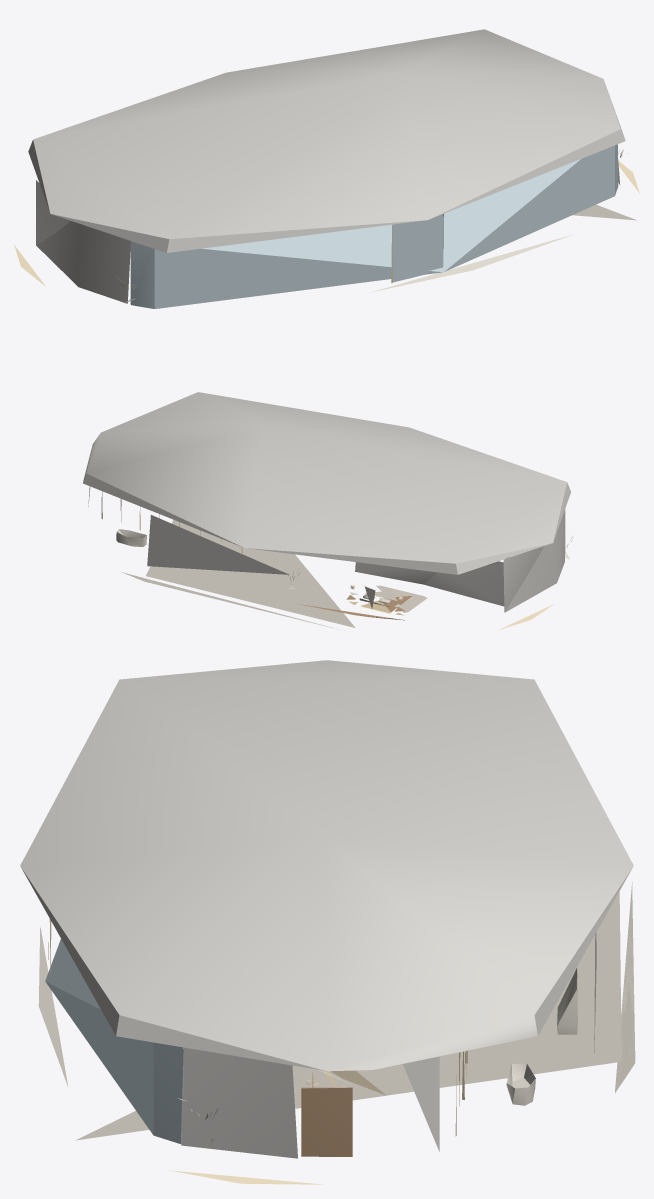
File: Nocturne_LOD0.dae
3 renders of one model, top to bottom at view 1: azimuth 30°, elevation 25°; view 2: azimuth 150°, elevation 25°; view 3: azimuth 270°, elevation 25°, orthographic. The views are drawn at different scales.
Visible parts, largest first — view 1: Nocturne_Roof_LOD0, Nocturne_Glass_S_LOD0, Nocturne_Wall_W_LOD0, Nocturne_Door_S_LOD0, Nocturne_Floor_LOD0; view 2: Nocturne_Roof_LOD0, Nocturne_Floor_LOD0, Nocturne_Wall_N_LOD0, Nocturne_Wall_W_LOD0, Nocturne_Partition_LOD0, Nocturne_Bed_LOD0, Nocturne_Bed_Rug_LOD0, Nocturne_Bathtub_LOD0; view 3: Nocturne_Roof_LOD0, Nocturne_Floor_LOD0, Nocturne_Wall_E_LOD0, Nocturne_Glass_S_LOD0, Nocturne_Door_E_LOD0, Nocturne_Bathtub_LOD0, Nocturne_Vanity_LOD0.
Boxes of the visible parts, box(x1,y1,x2,y2) form: Nocturne_Roof_LOD0: box(28, 29, 625, 252); Nocturne_Glass_S_LOD0: box(130, 144, 618, 308); Nocturne_Wall_W_LOD0: box(36, 180, 130, 303); Nocturne_Door_S_LOD0: box(391, 214, 443, 283); Nocturne_Floor_LOD0: box(14, 160, 639, 292); Nocturne_Roof_LOD0: box(83, 392, 570, 574); Nocturne_Floor_LOD0: box(99, 490, 554, 629); Nocturne_Wall_N_LOD0: box(147, 515, 404, 620); Nocturne_Wall_W_LOD0: box(503, 509, 565, 612); Nocturne_Partition_LOD0: box(355, 561, 504, 606); Nocturne_Bed_LOD0: box(359, 586, 412, 613); Nocturne_Bed_Rug_LOD0: box(376, 585, 427, 612); Nocturne_Bathtub_LOD0: box(116, 529, 146, 546); Nocturne_Roof_LOD0: box(20, 660, 633, 1071); Nocturne_Floor_LOD0: box(38, 882, 635, 1184); Nocturne_Wall_E_LOD0: box(181, 1047, 439, 1158); Nocturne_Glass_S_LOD0: box(45, 939, 183, 1143); Nocturne_Door_E_LOD0: box(301, 1087, 352, 1156); Nocturne_Bathtub_LOD0: box(506, 1063, 535, 1105); Nocturne_Vanity_LOD0: box(557, 968, 577, 1034).
Bounding box in the file's own units: 27.44 × 17.44 × 6.03.
